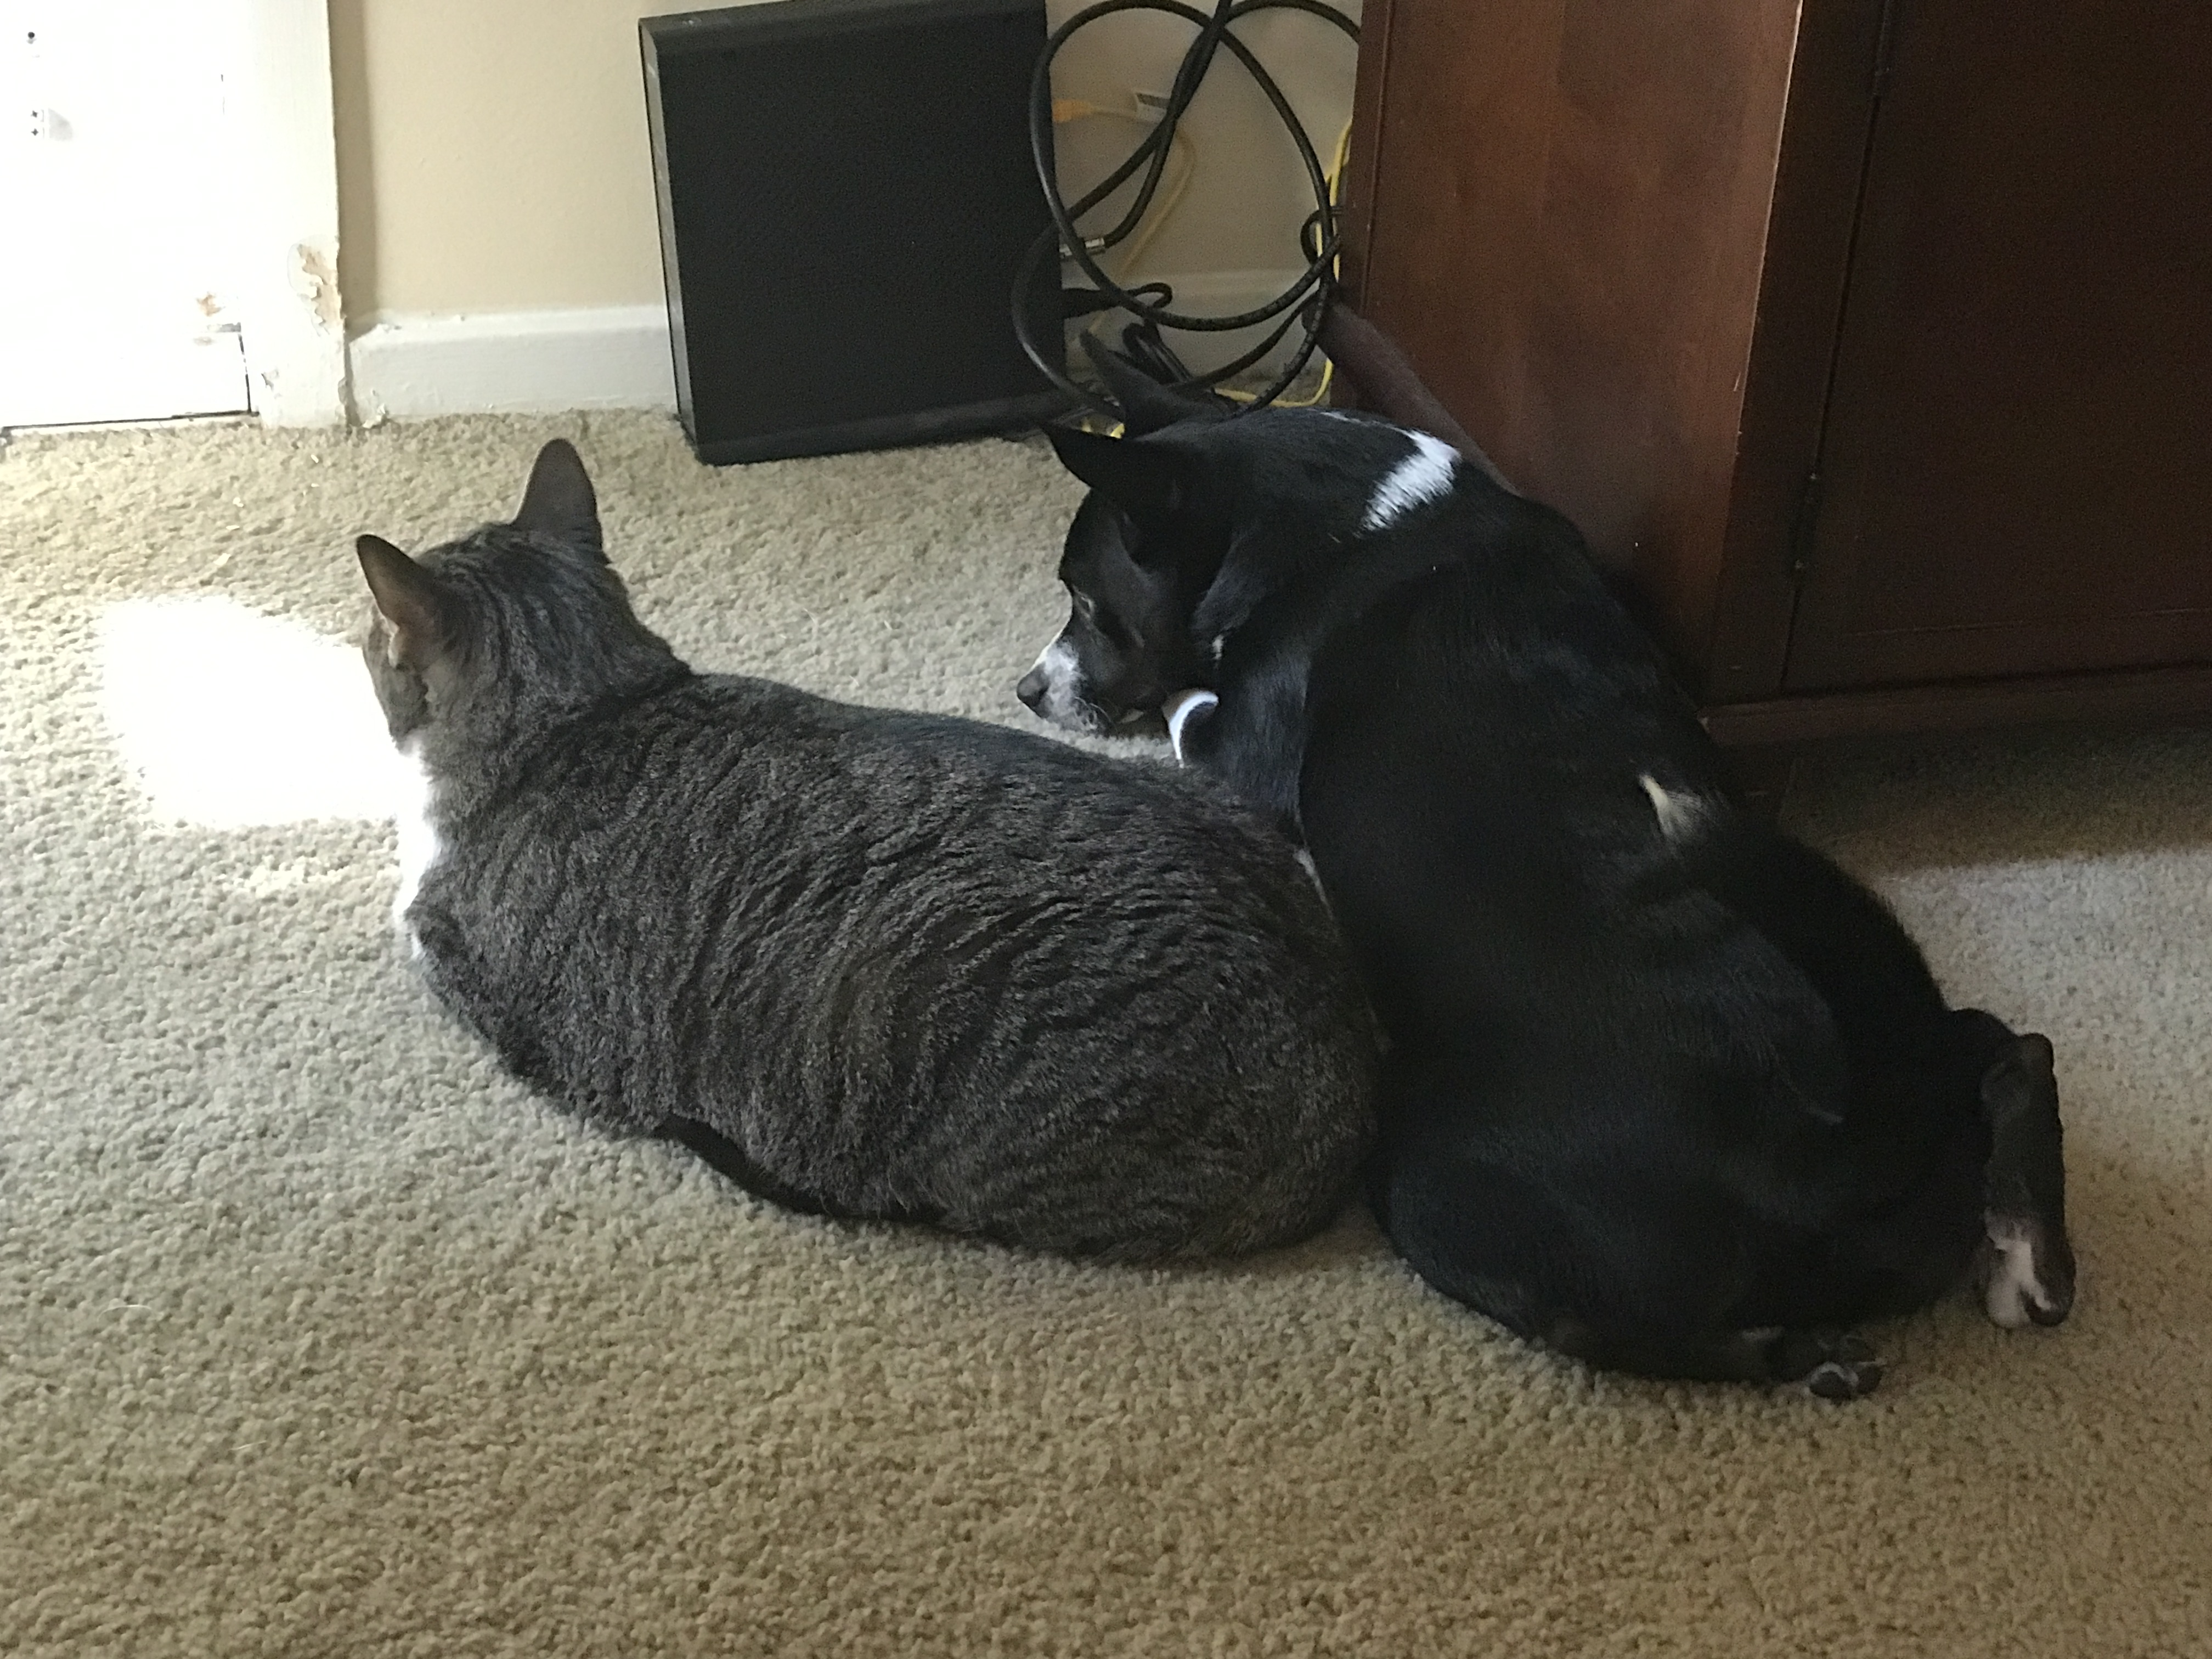Harley: (988, 326, 2107, 1415)
